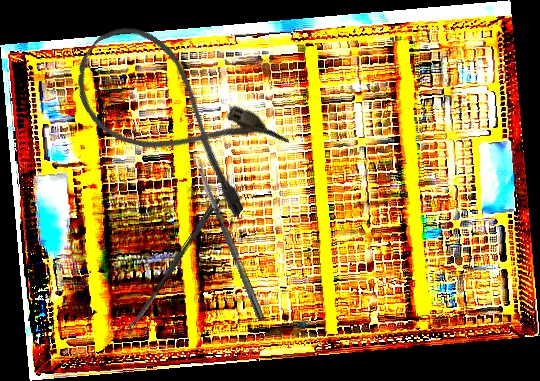Cannula: (55, 10, 295, 224)
Surgical Spoon: (124, 195, 221, 336), (193, 156, 266, 322)
